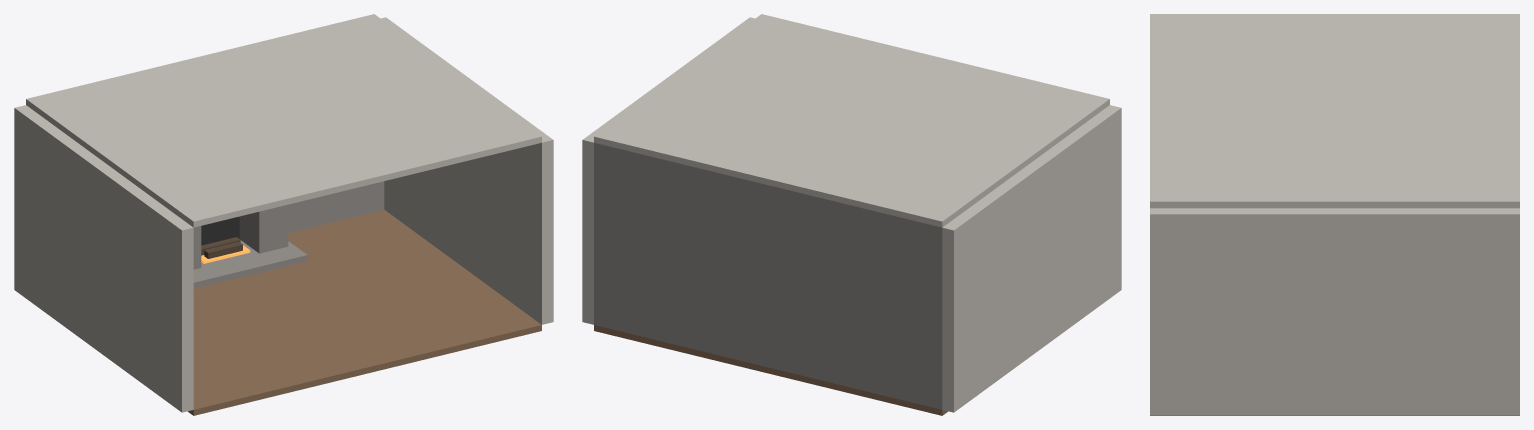
File: fire_grid_fixture.gltf
3 views of the same model, side by side, from view 1: azimuth 30°, elevation 25°; view 2: azimuth 150°, elevation 25°; view 3: azimuth 270°, elevation 25° (orthographic). The views are drawn at different scales.
Parts seen in each view (by area): view 1: ceiling, floor, wall_left, wall_right, wall_back, hearthstone, jamb_right, firebox_back; view 2: wall_back, ceiling, wall_left, wall_right, floor; view 3: wall_right, ceiling, floor.
Part boxes in pixels (x1=…): ceiling: x1=26, y1=14, x2=541, y2=227; floor: x1=188, y1=209, x2=541, y2=415; wall_left: x1=14, y1=105, x2=193, y2=412; wall_right: x1=381, y1=17, x2=553, y2=324; wall_back: x1=288, y1=181, x2=384, y2=232; hearthstone: x1=193, y1=240, x2=307, y2=288; jamb_right: x1=239, y1=204, x2=288, y2=253; firebox_back: x1=201, y1=216, x2=239, y2=245; wall_back: x1=594, y1=142, x2=942, y2=409; ceiling: x1=594, y1=14, x2=1109, y2=227; wall_left: x1=942, y1=105, x2=1121, y2=412; wall_right: x1=582, y1=17, x2=754, y2=324; floor: x1=594, y1=325, x2=947, y2=415; wall_right: x1=1150, y1=208, x2=1519, y2=415; ceiling: x1=1150, y1=14, x2=1519, y2=208; floor: x1=1150, y1=415, x2=1519, y2=415.
Size of the model in its own units: 6.4 by 3.2 by 5.
